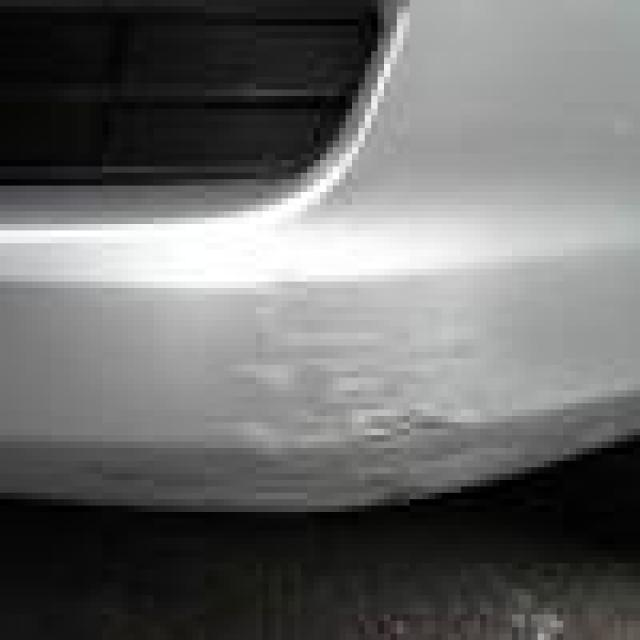minor: (237, 317, 535, 501)
